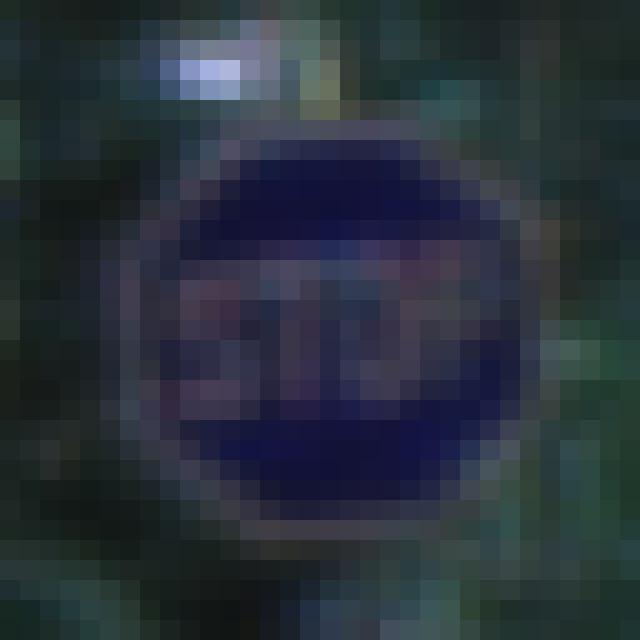STOP: (128, 128, 565, 520)
